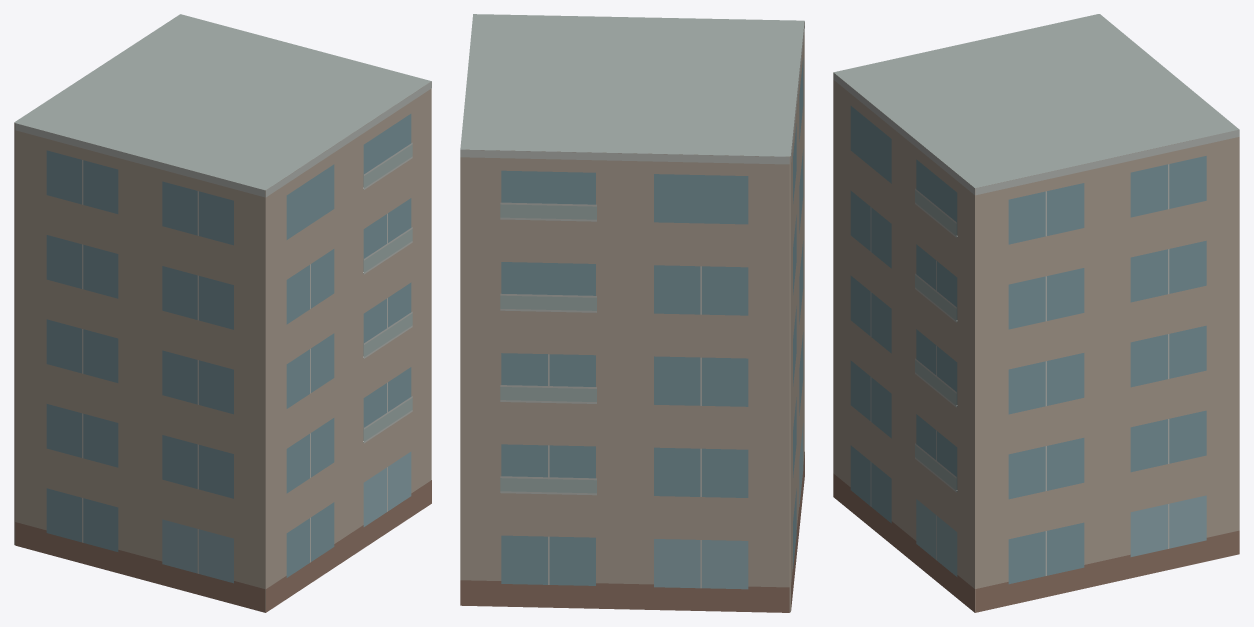
Rendered from survey-upis-32841536.glb.
3 renders of one model, left to right at view 1: azimuth 30°, elevation 25°; view 2: azimuth 150°, elevation 25°; view 3: azimuth 270°, elevation 25°, orthographic. The views are drawn at different scales.
Parts seen in each view (by area): view 1: survey-upis-32841536.tmp; view 2: survey-upis-32841536.tmp; view 3: survey-upis-32841536.tmp.
Part boxes in pixels (x1,y1,x2,y2): survey-upis-32841536.tmp: (14,14,431,612); survey-upis-32841536.tmp: (460,14,804,612); survey-upis-32841536.tmp: (833,14,1239,612).
Size of the model in its own units: 12.73 by 14.45 by 12.54.
